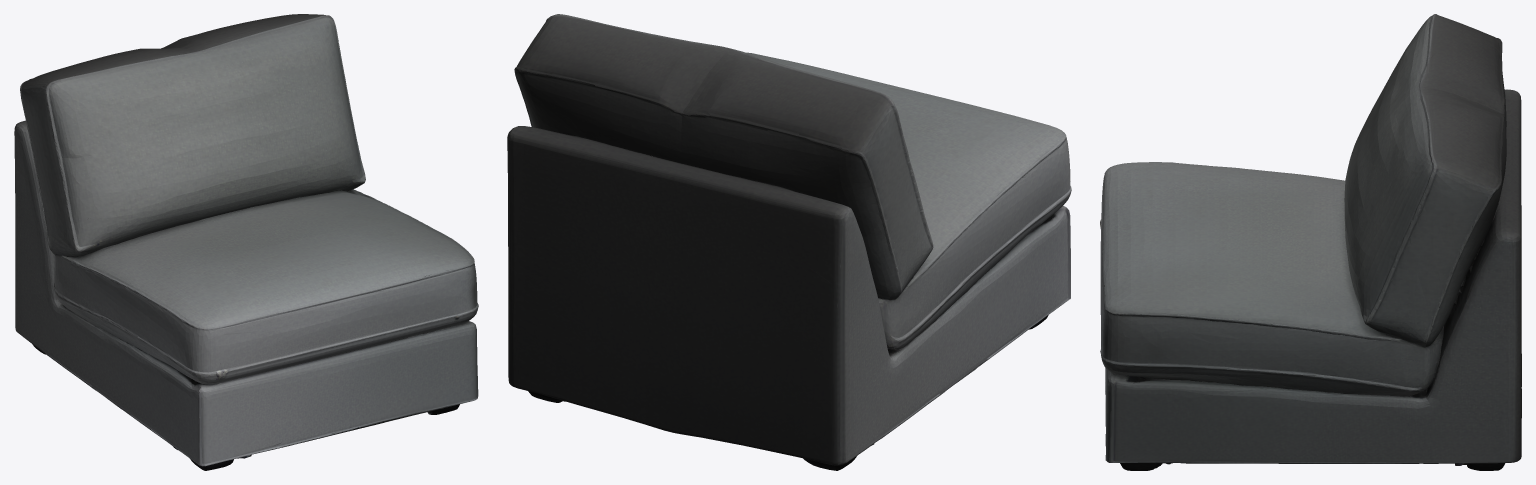
File: 53bb869d-8743-4fdd-833b-b16569f7ec0e.glb
3 renders of one model, left to right at view 1: azimuth 30°, elevation 25°; view 2: azimuth 150°, elevation 25°; view 3: azimuth 270°, elevation 25°, orthographic. The views are drawn at different scales.
Parts seen in each view (by area): view 1: geometry_0; view 2: geometry_0; view 3: geometry_0.
Boxes of the visible parts, box(x1,y1,x2,y2) form: geometry_0: box(14, 14, 478, 470); geometry_0: box(507, 14, 1071, 470); geometry_0: box(1100, 14, 1521, 470).
Bounding box in the file's own units: 0.8691 × 0.8308 × 0.9942.
Materials: 1 (1 with a texture image).
